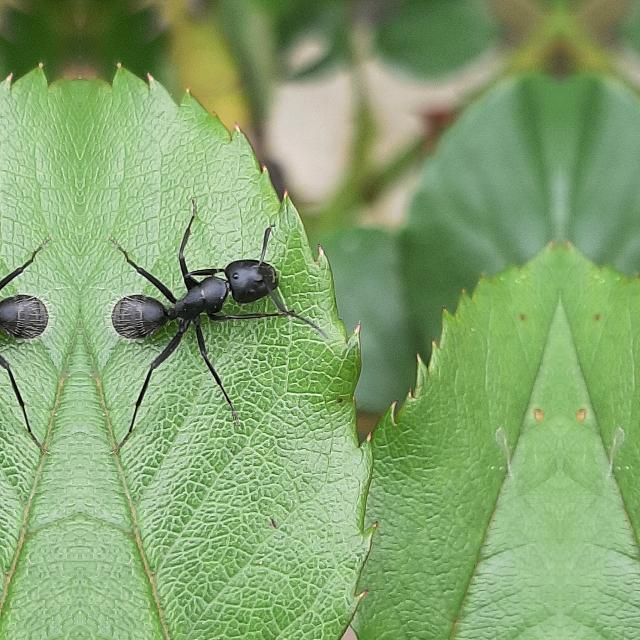Camponotus: (86, 232, 312, 380), (0, 232, 74, 380)
